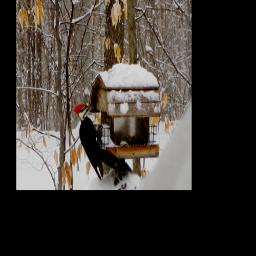Woodpecker: (72, 103, 127, 181)
